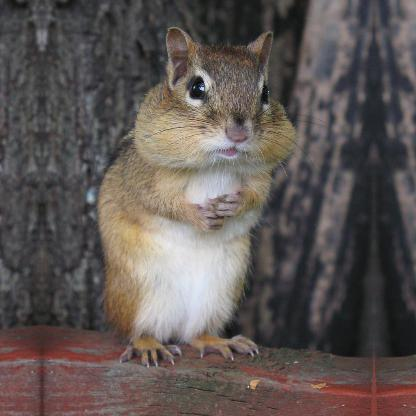Squirrel: (92, 22, 316, 366)
